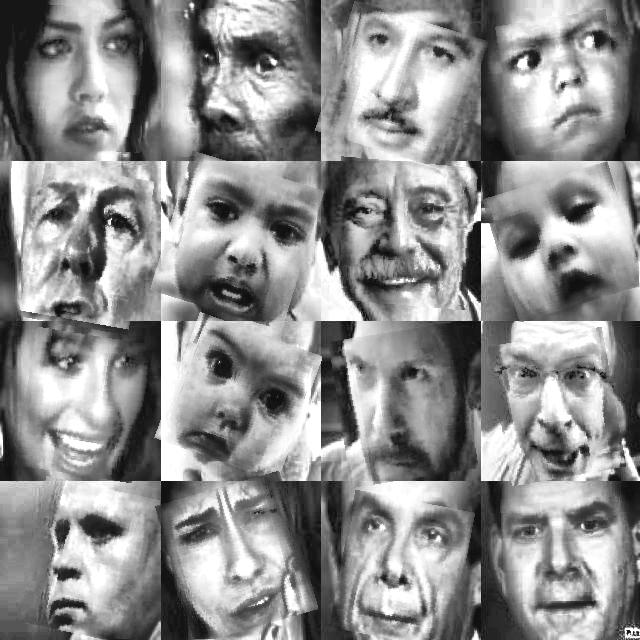angry: (170, 3, 314, 155), (488, 497, 640, 640), (334, 327, 473, 483), (25, 167, 148, 331), (494, 332, 620, 482), (500, 13, 622, 152)
happy: (332, 159, 476, 308), (20, 331, 148, 479)
neutral: (324, 10, 480, 162), (490, 169, 637, 314), (335, 495, 468, 640)
sad: (159, 160, 315, 322), (163, 479, 310, 637), (164, 321, 313, 473), (22, 481, 153, 640), (18, 5, 148, 151)
